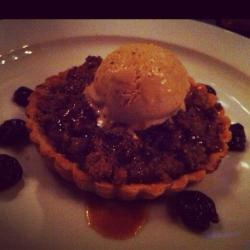apple_pie: (28, 63, 229, 199)
icecream: (79, 35, 195, 142)
